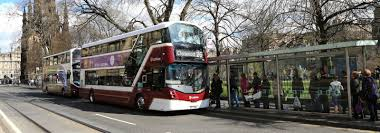bus: (79, 22, 211, 112), (41, 48, 83, 98)
